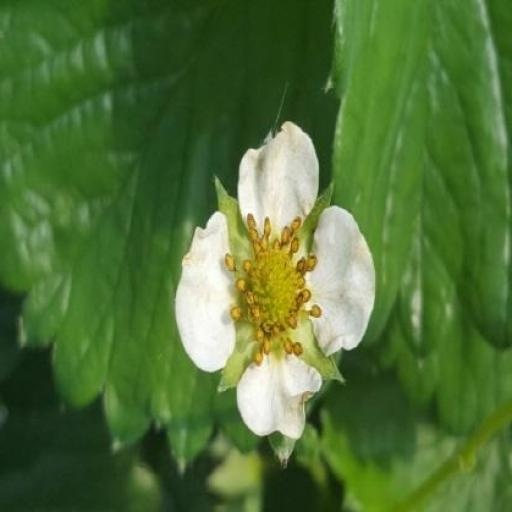Blossom Blight: (185, 210, 291, 368)
